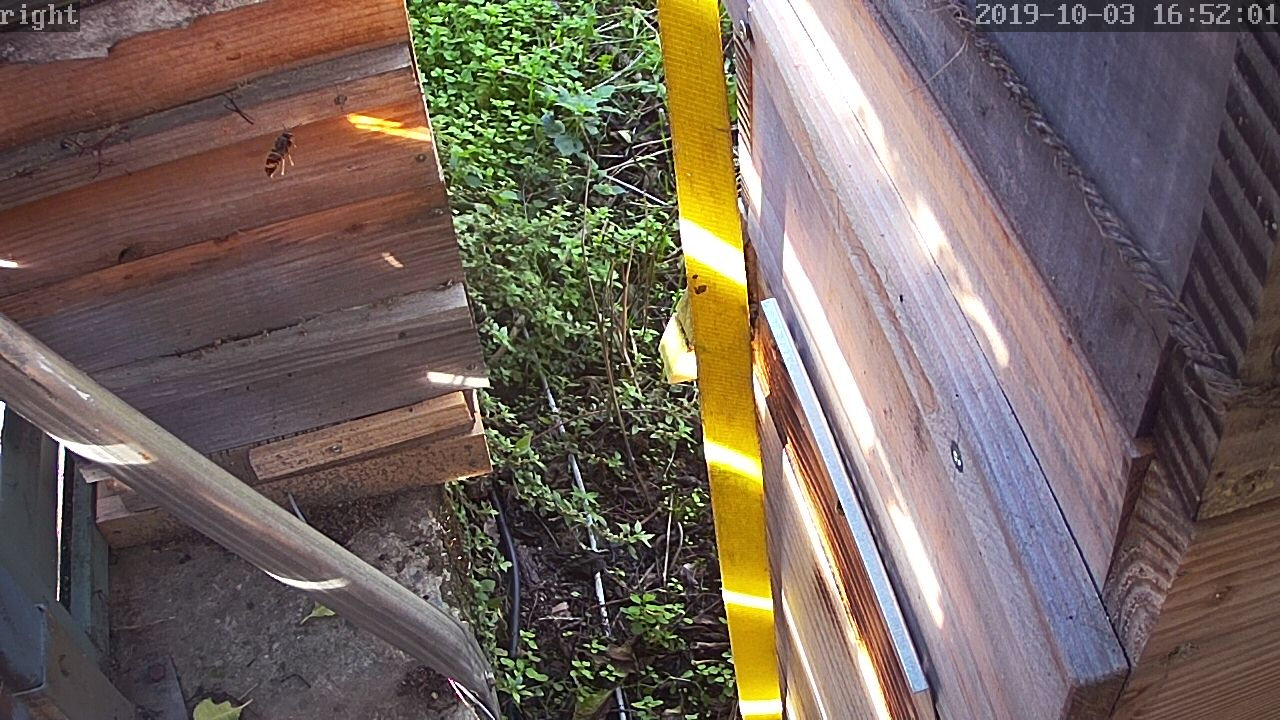hornet: (256, 124, 300, 180)
